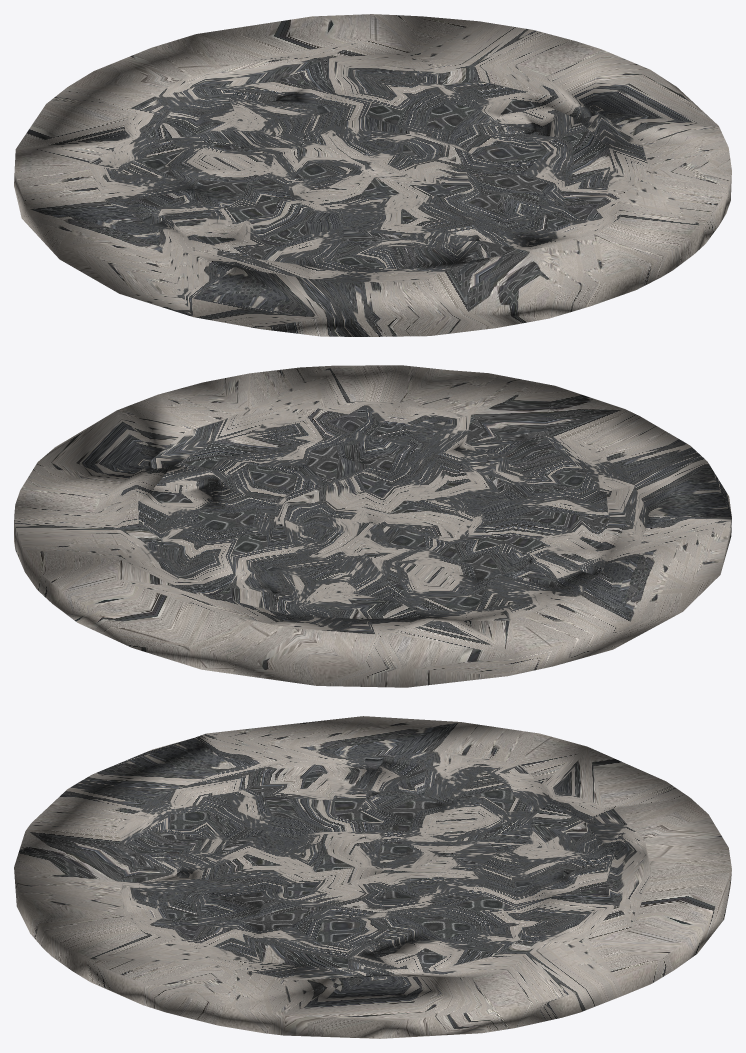
Rendered from grate_lod1.glb.
3 views of the same model, one above another, from view 1: azimuth 30°, elevation 25°; view 2: azimuth 150°, elevation 25°; view 3: azimuth 270°, elevation 25° (orthographic).
Bounding box in the file's own units: 1.9 × 0.0643 × 1.9.
1 material, 1 textured.
